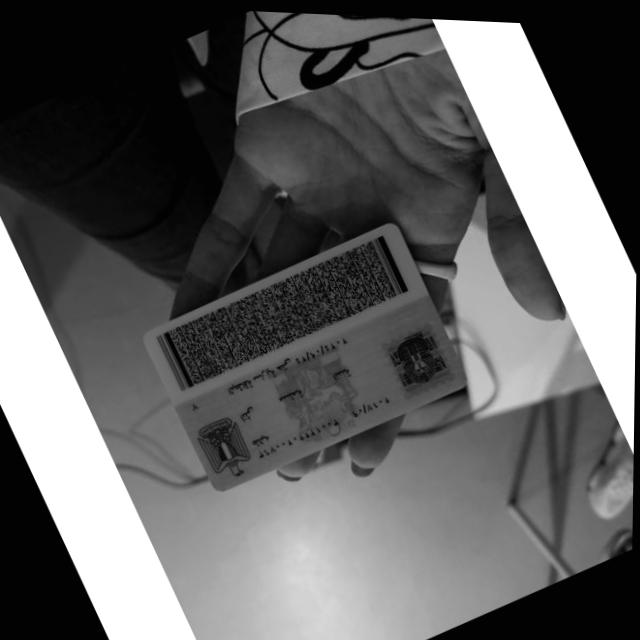id_card: (144, 223, 464, 489)
